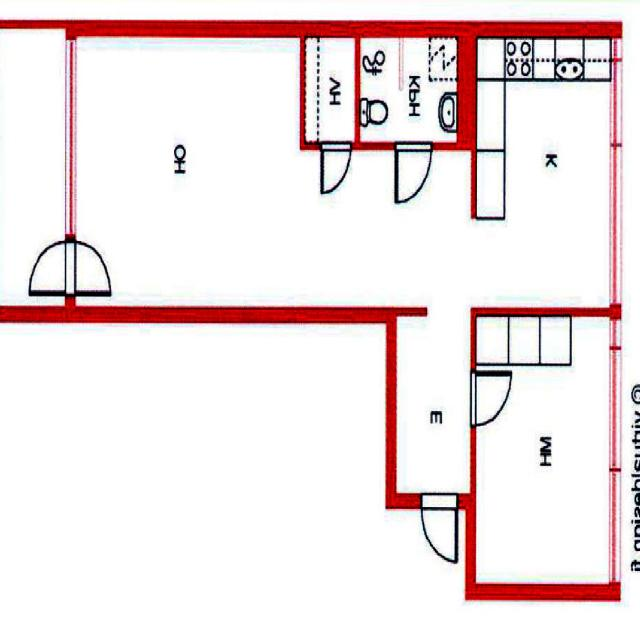door: (422, 492, 457, 562), (396, 140, 432, 202), (32, 242, 76, 292), (66, 242, 110, 292), (470, 372, 511, 424), (322, 140, 350, 191)
